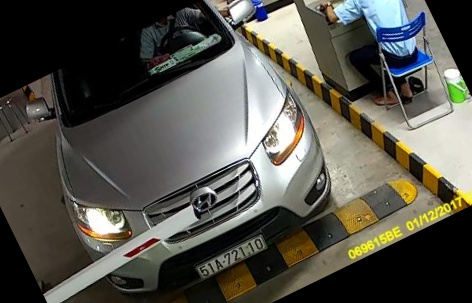plate: (181, 230, 278, 285)
